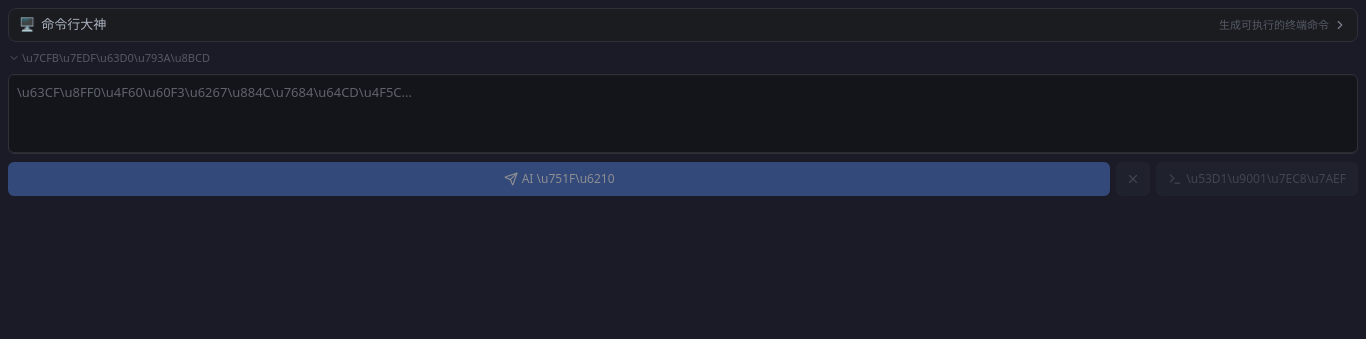
AiCommandTab actions › clears input and result
Type "say hi" into the text box with placeholder "\\u63CF\\u8FF0\\u4F60\\u60F3\\u6267\\u884C\\u7684\\u64CD\\u4F5C..." at point(683, 114), box [8,74,1358,154]
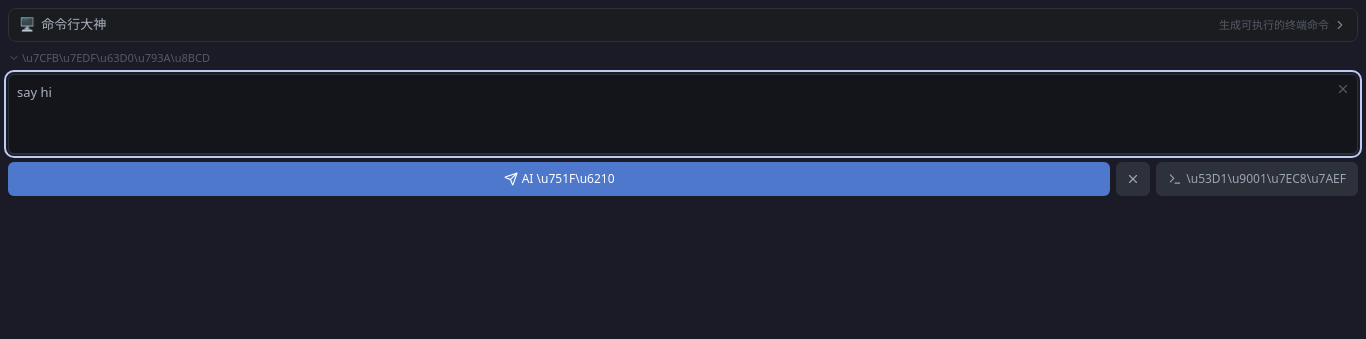
Click the button "AI \\u751F\\u6210" at point(559, 179), box [8,162,1110,196]
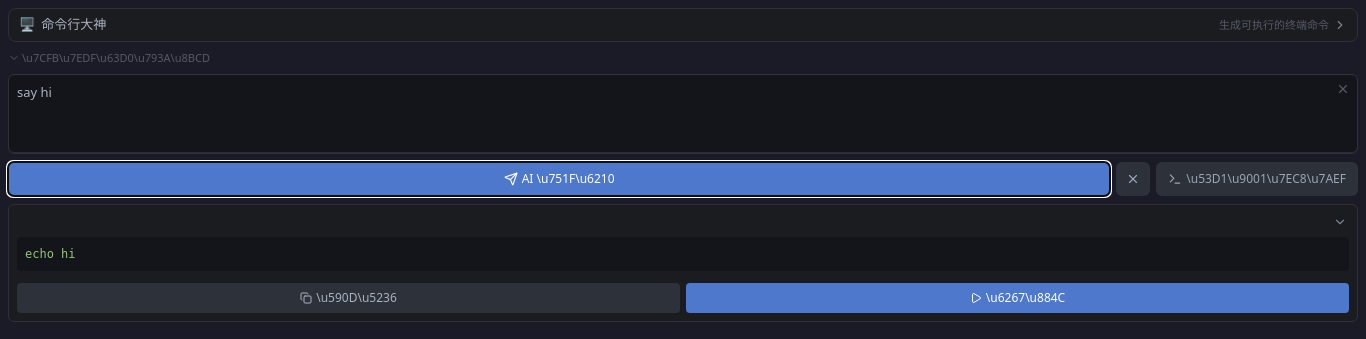
Expected: the 1st button named "\\u6E05\\u7A7A" is shown
Expected: the text "echo hi" is shown, [17,237,1349,271]
Click the 1st button named "\\u6E05\\u7A7A" at point(1343, 89), box [1334,80,1352,98]
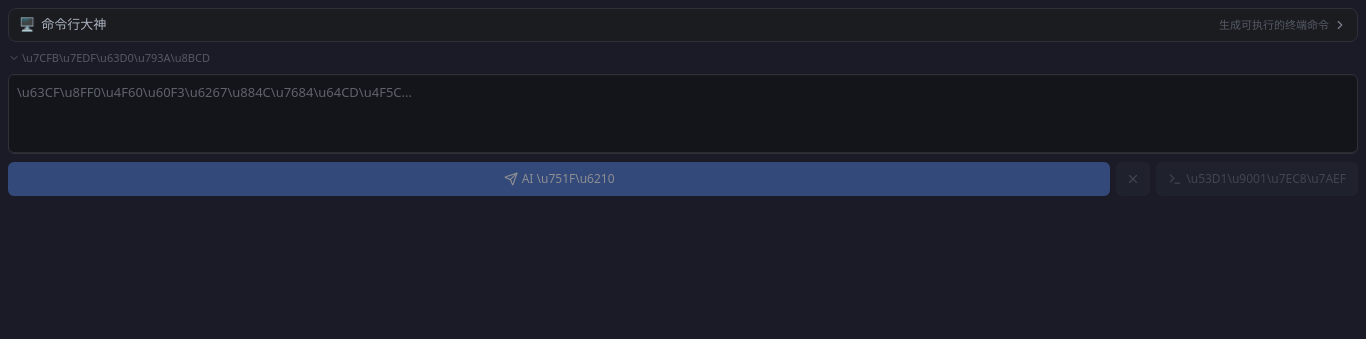
Expected: the text "echo hi" is gone
